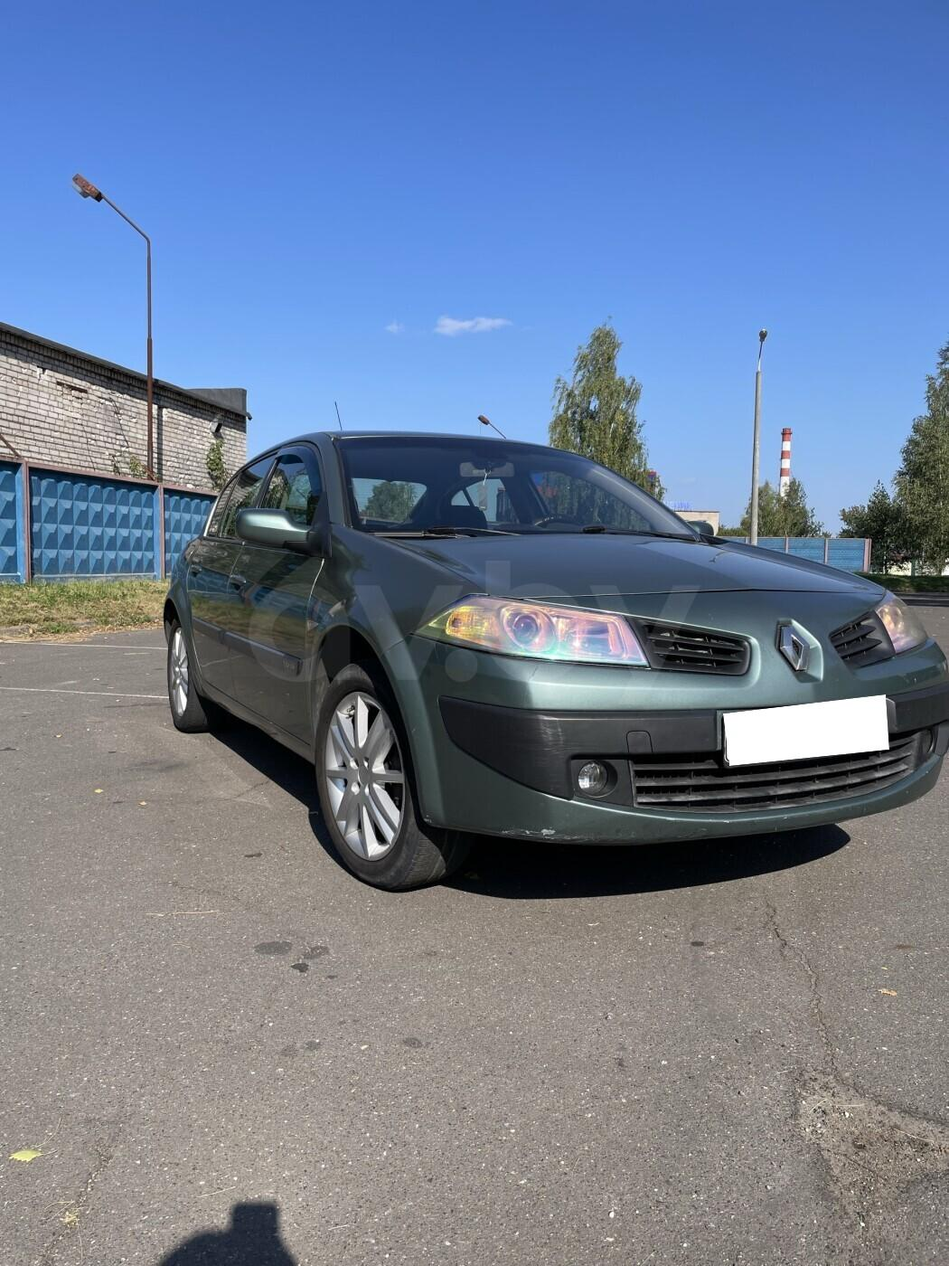Megane_2005-2009: (155, 414, 949, 931)
